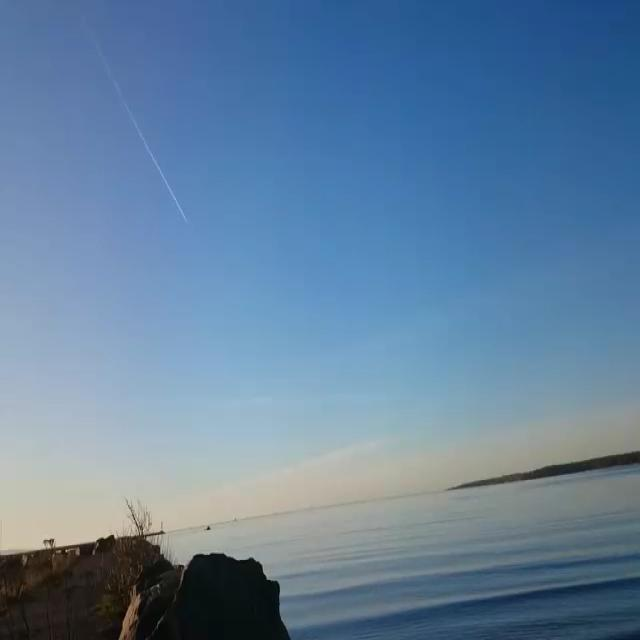AirPlane: (141, 168, 224, 255)
